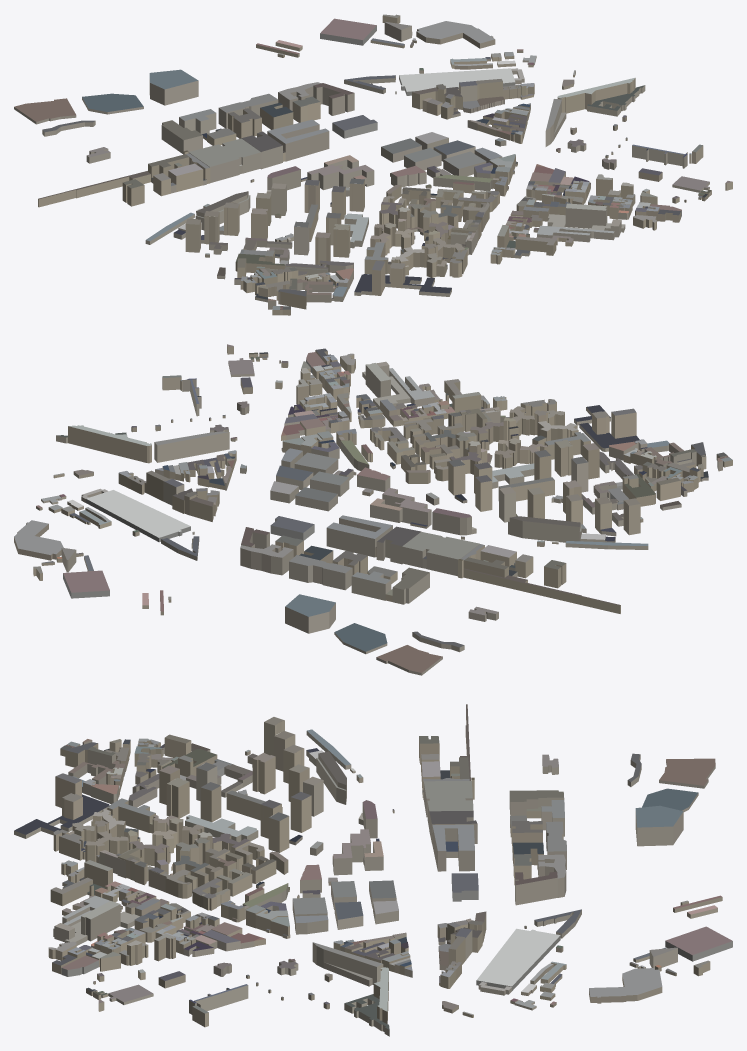
3 renders of one model, top to bottom at view 1: azimuth 30°, elevation 25°; view 2: azimuth 150°, elevation 25°; view 3: azimuth 270°, elevation 25°, orthographic. The views are drawn at different scales.
Parts seen in each view (by area): view 1: tuile; view 2: tuile; view 3: tuile.
Part boxes in pixels (x1,y1,x2,y2): tuile: [14, 14, 732, 315]; tuile: [14, 344, 732, 675]; tuile: [14, 704, 732, 1036].
Bounding box in the file's own units: 1198 × 65.06 × 1123.
